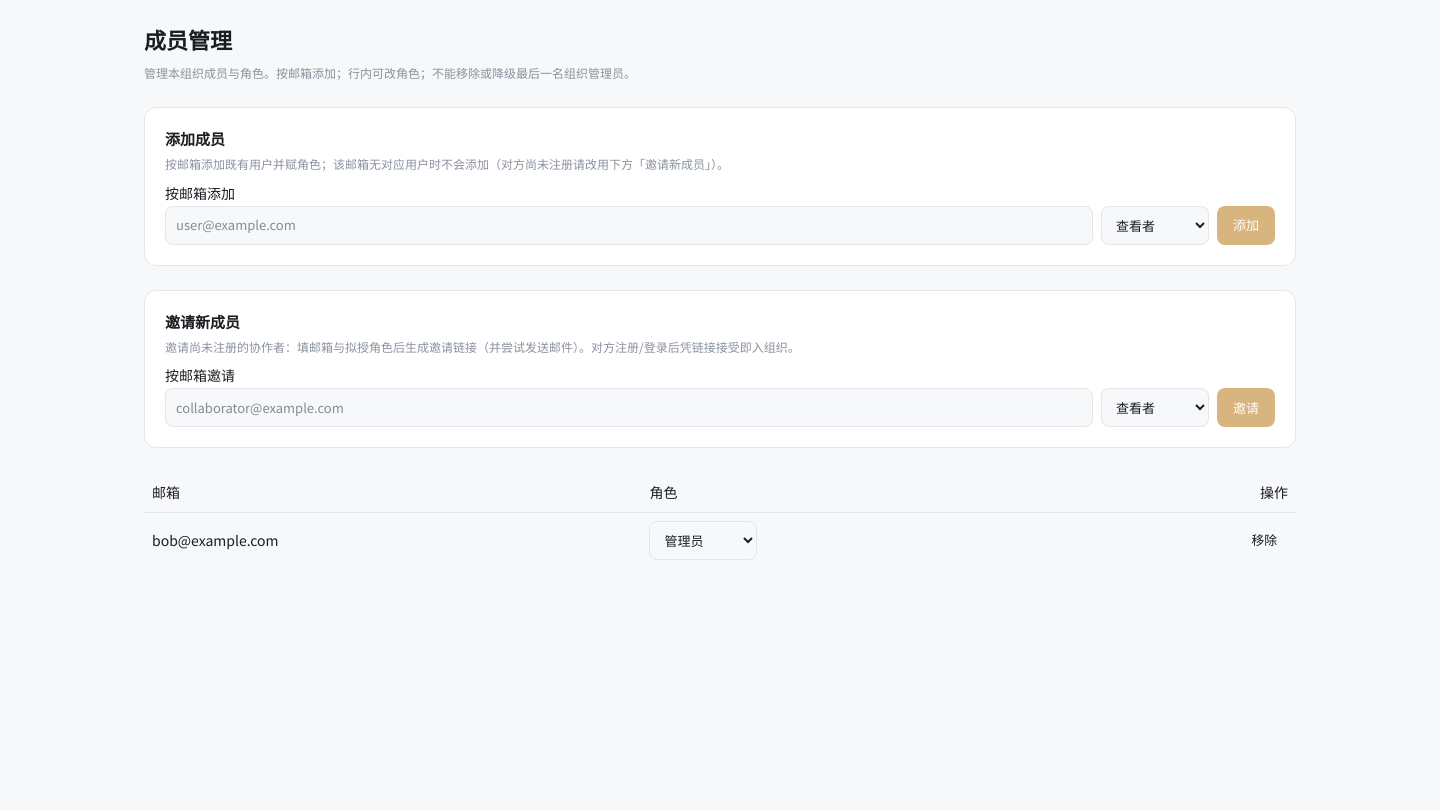
Test: MembersPage › shows last-admin toast on remove 409
Click the button "移除": (1264, 540) [1240,526,1288,554]
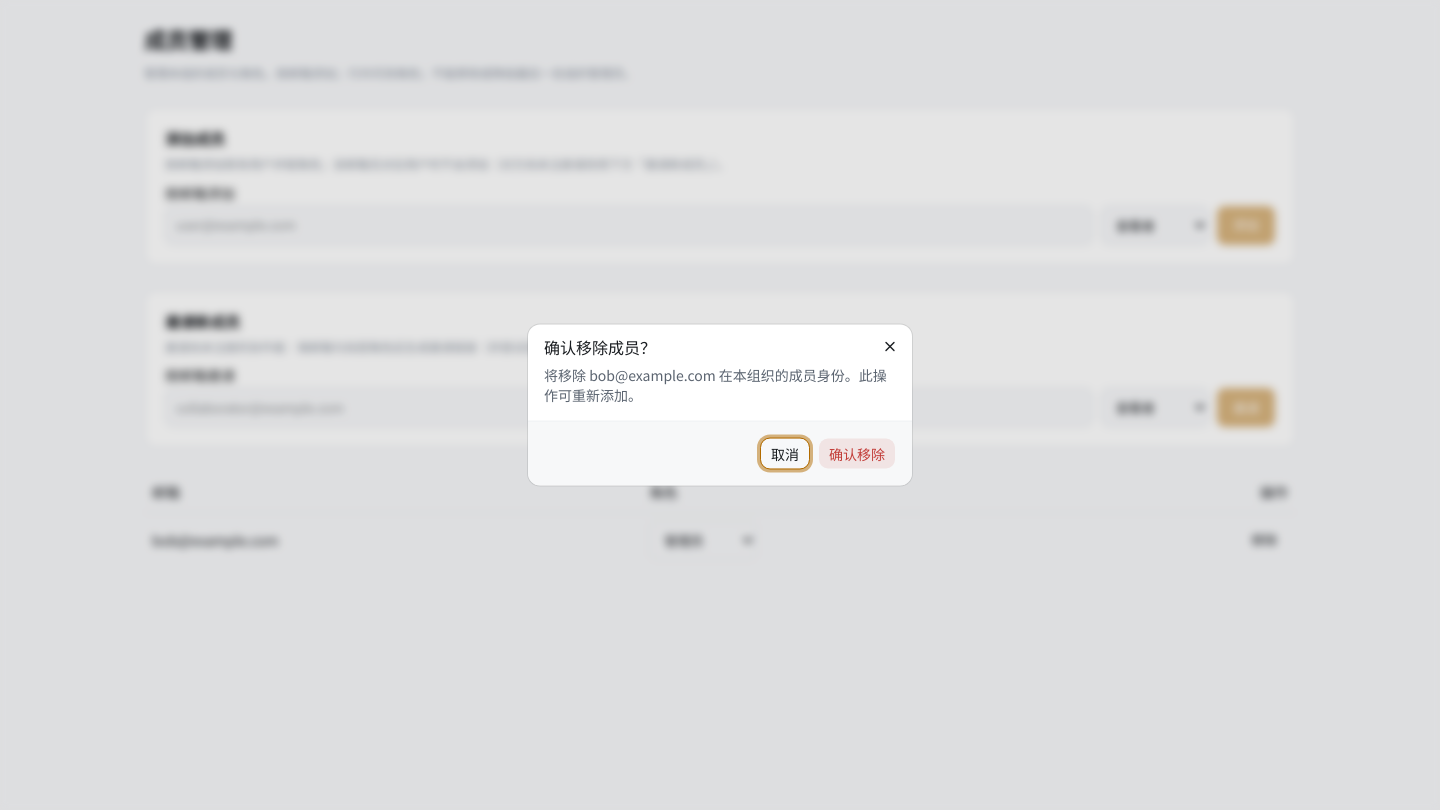
Click the button "确认移除": (857, 454) [818,438,896,470]
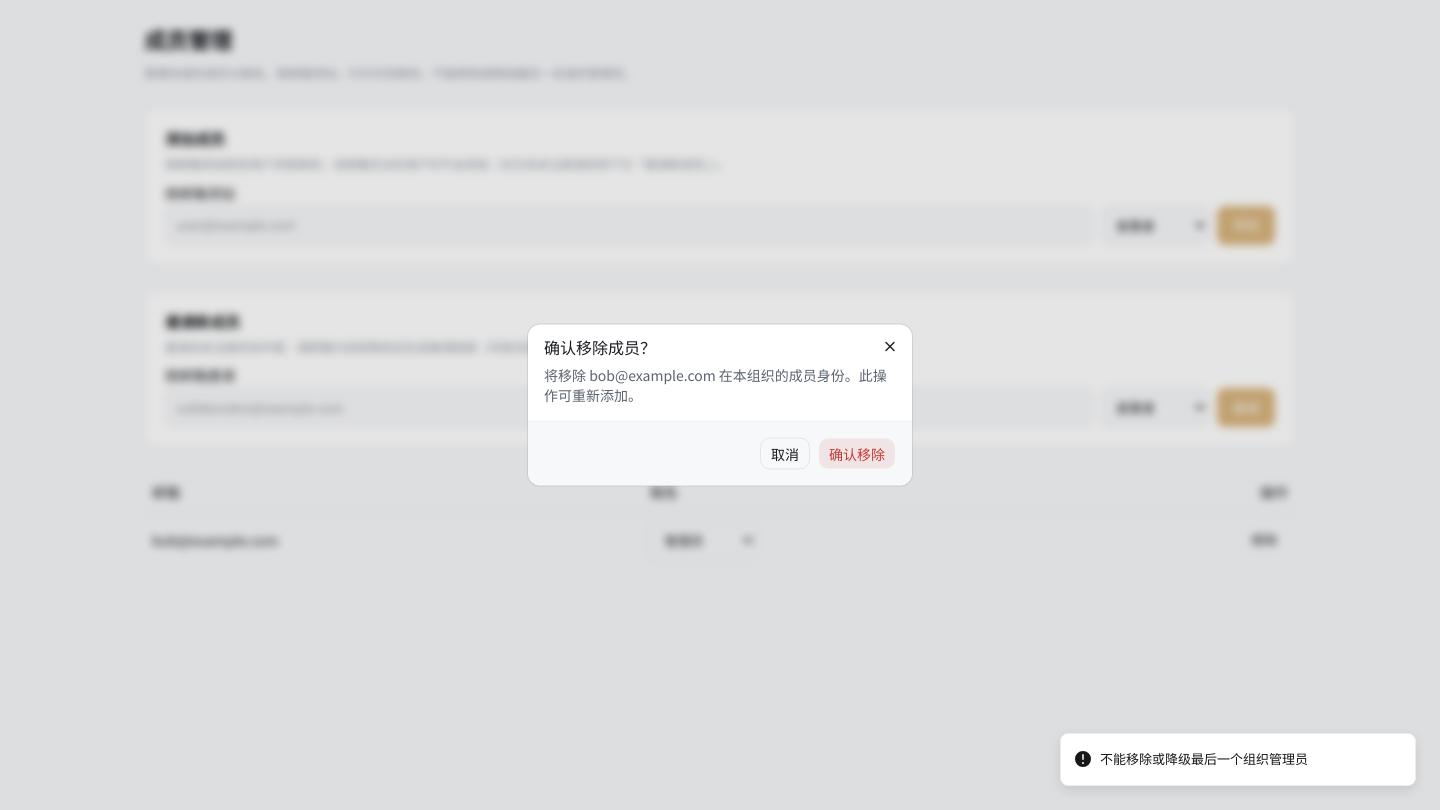
Check: the text "不能移除或降级最后一个组织管理员" is shown, box [1100,750,1308,769]
